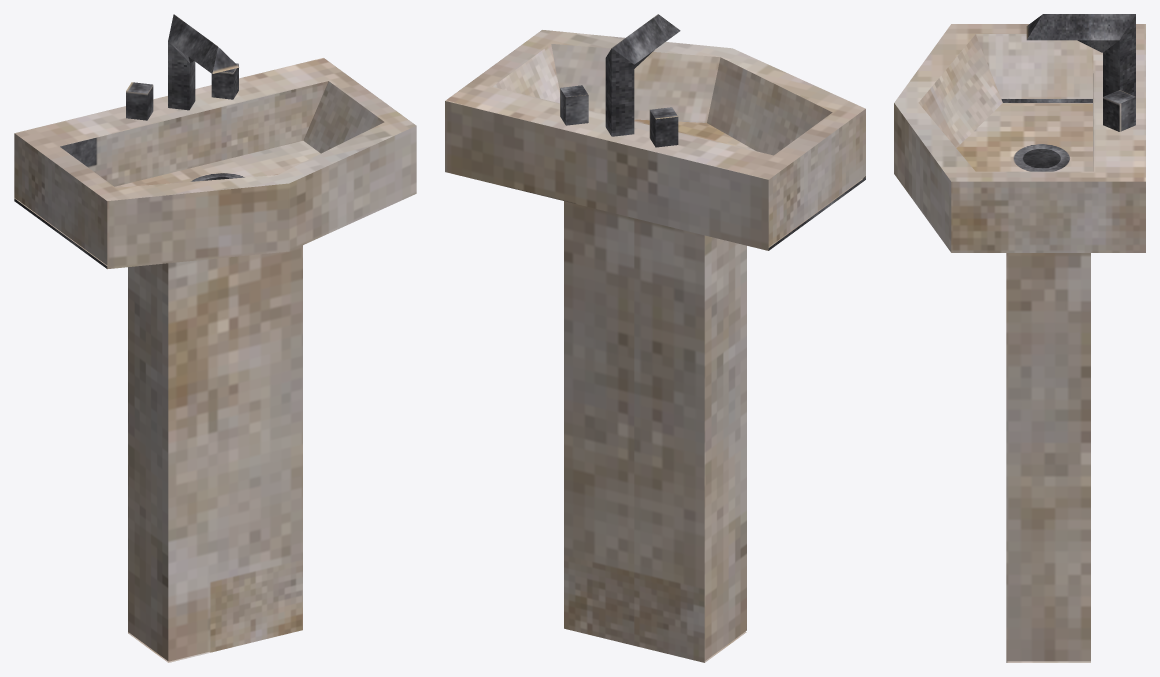
Rendered from umywalka.fbx.
The picture shows the model from 3 angles, left to right: view 1: azimuth 30°, elevation 25°; view 2: azimuth 150°, elevation 25°; view 3: azimuth 270°, elevation 25°; orthographic projection. The views are drawn at different scales.
Visible parts, largest first — view 1: Zlew; view 2: Zlew; view 3: Zlew.
Boxes of the visible parts, box(x1,y1,x2,y2) form: Zlew: box(14, 14, 416, 662); Zlew: box(445, 14, 865, 662); Zlew: box(894, 14, 1145, 662).
Size of the model in its own units: 61.99 by 112 by 41.74.
